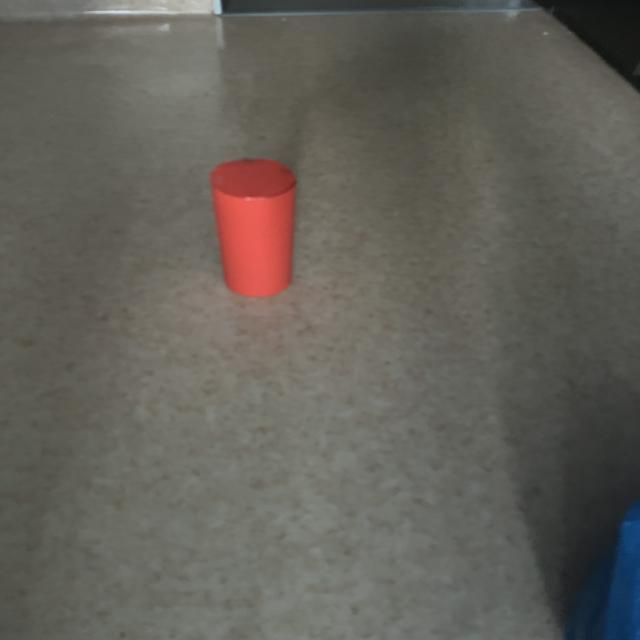przeszkoda: (210, 159, 296, 297)
